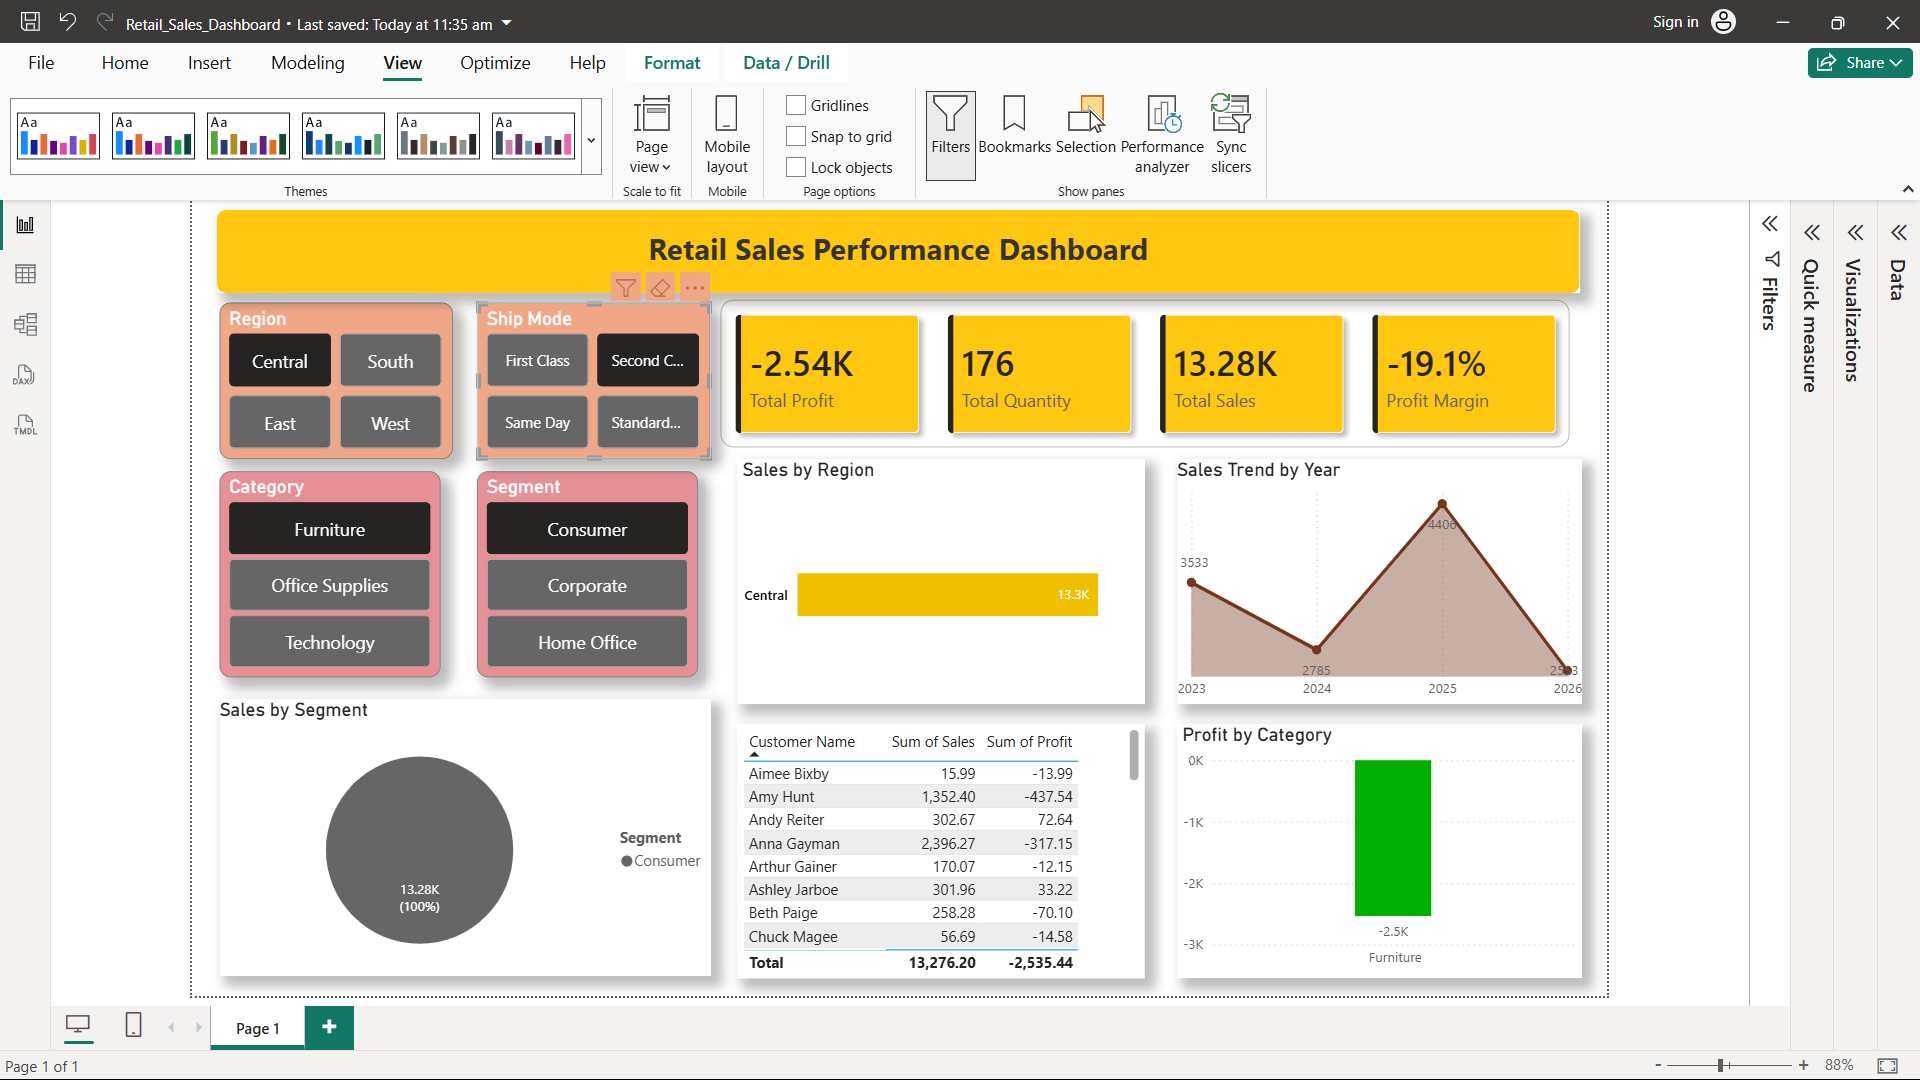

Layout of this report page (visuals, bound fields, positions):
{"tool":"powerbi","page":{"name":"Page 1","canvas":[1280,720],"ordinal":0},"visuals":[{"type":"cardVisual","fields":{"Data":["samplesuperstore.Total Profit","samplesuperstore.Total Quantity","samplesuperstore.Total Sales","samplesuperstore.Profit Margin"]},"box":[467.9,28.8,783.5,164.7],"z":0},{"type":"barChart","fields":{"Y":["Sum(samplesuperstore.Sales)"],"Category":["samplesuperstore.Region"]},"box":[503.5,203.5,347.7,229.1],"z":1000},{"type":"clusteredColumnChart","fields":{"Category":["samplesuperstore.Category"],"Y":["Sum(samplesuperstore.Profit)"]},"box":[889.2,446,366.4,244.3],"z":2000},{"type":"pieChart","fields":{"Category":["samplesuperstore.Segment"],"Y":["Sum(samplesuperstore.Sales)"]},"box":[22.1,400,445.4,296.5],"z":3000},{"type":"tableEx","fields":{"Values":["samplesuperstore.Customer Name","Sum(samplesuperstore.Sales)","Sum(samplesuperstore.Profit)"]},"box":[491.3,446,369.1,252.5],"z":4000},{"type":"lineChart","fields":{"Category":["samplesuperstore.Order Date.Variation.Date Hierarchy.Year","samplesuperstore.Order Date.Variation.Date Hierarchy.Quarter","samplesuperstore.Order Date.Variation.Date Hierarchy.Month","samplesuperstore.Order Date.Variation.Date Hierarchy.Day"],"Y":["Sum(samplesuperstore.Sales)"]},"box":[889.5,203.5,366.3,222.1],"z":5000},{"type":"advancedSlicerVisual","fields":{"Values":["samplesuperstore.Region"]},"box":[22.1,30.2,211.6,140.7],"z":6000},{"type":"advancedSlicerVisual","fields":{"Values":["samplesuperstore.Segment"]},"box":[255.8,194.2,200,186],"z":7000},{"type":"advancedSlicerVisual","fields":{"Values":["samplesuperstore.Category"]},"box":[33.7,194.2,200,186],"z":8000},{"type":"advancedSlicerVisual","fields":{"Values":["samplesuperstore.Ship Mode"]},"box":[255.8,29.1,211.6,140.7],"z":9000}]}

Visuals, with their boxes on the page's 1280x720 design canvas (x1, y1, x2, y2). These are canvas units, not pixel positions in the 1920x1080 screenshot, which may show the page scaled, cropped or inside an application window:
cardVisual - samplesuperstore.Total Profit x samplesuperstore.Total Quantity: box(468, 29, 1251, 194)
barChart - Sum(samplesuperstore.Sales) x samplesuperstore.Region: box(504, 204, 851, 433)
clusteredColumnChart - samplesuperstore.Category x Sum(samplesuperstore.Profit): box(889, 446, 1256, 690)
pieChart - samplesuperstore.Segment x Sum(samplesuperstore.Sales): box(22, 400, 468, 696)
tableEx - samplesuperstore.Customer Name x Sum(samplesuperstore.Sales): box(491, 446, 860, 698)
lineChart - samplesuperstore.Order Date.Variation.Date Hierarchy.Year x samplesuperstore.Order Date.Variation.Date Hierarchy.Quarter: box(890, 204, 1256, 426)
advancedSlicerVisual - samplesuperstore.Region: box(22, 30, 234, 171)
advancedSlicerVisual - samplesuperstore.Segment: box(256, 194, 456, 380)
advancedSlicerVisual - samplesuperstore.Category: box(34, 194, 234, 380)
advancedSlicerVisual - samplesuperstore.Ship Mode: box(256, 29, 467, 170)
